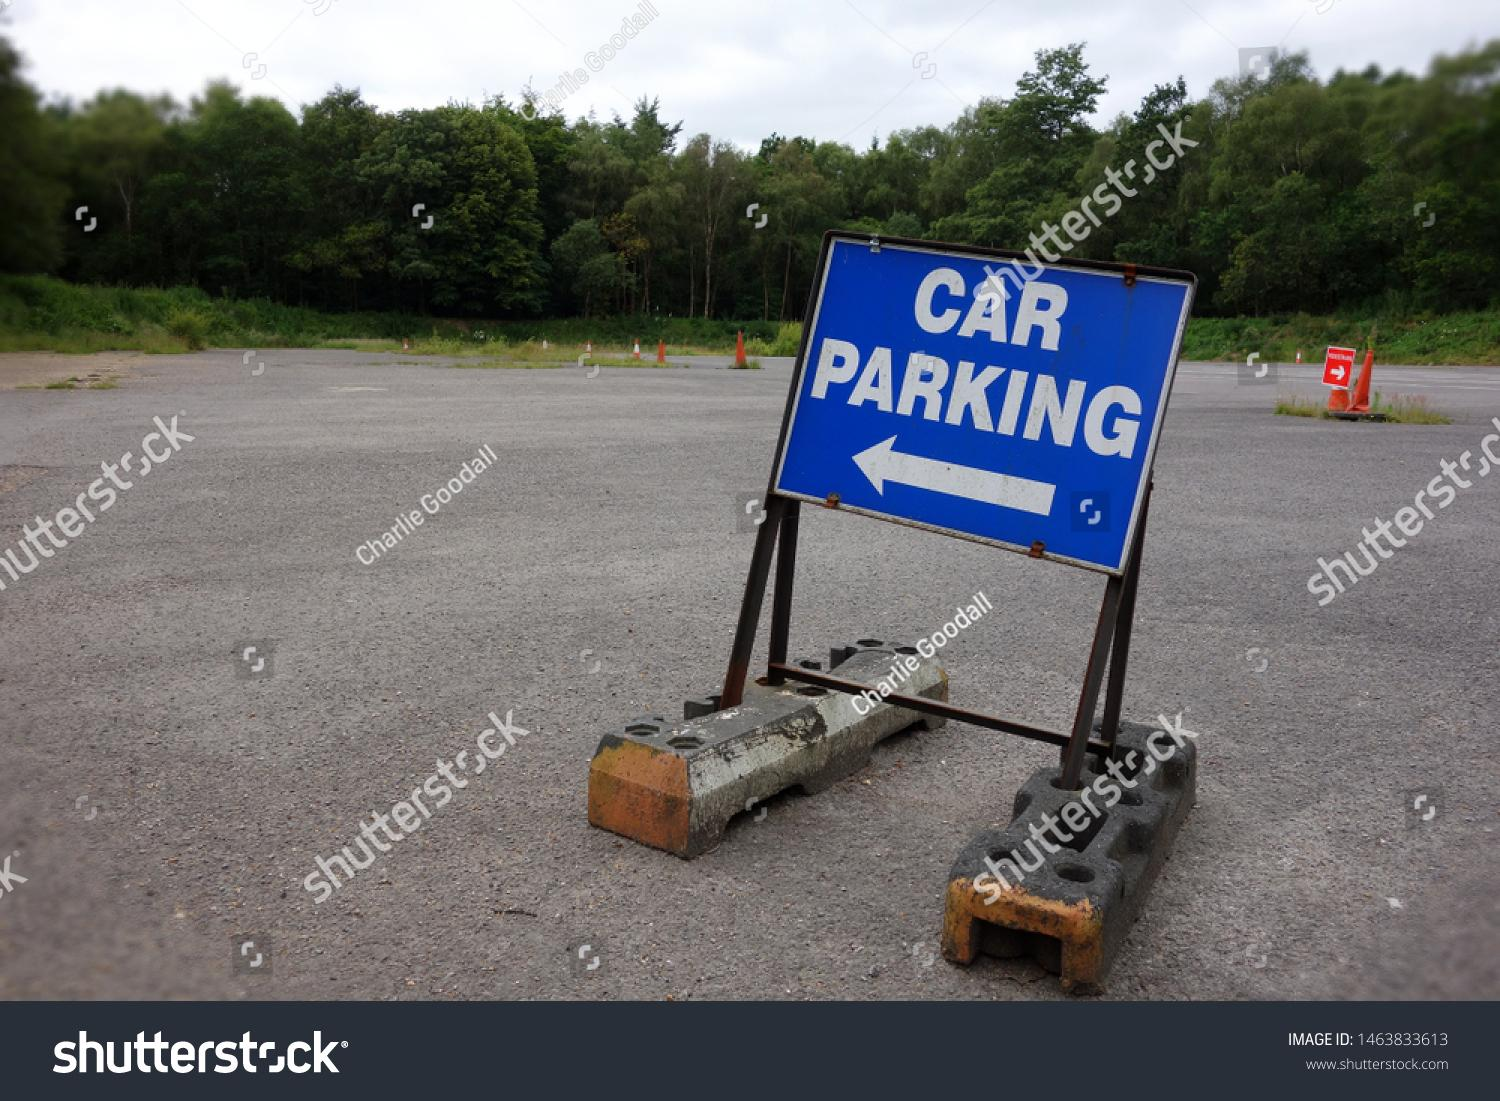Parking Lot Cars: (791, 216, 1229, 578)
